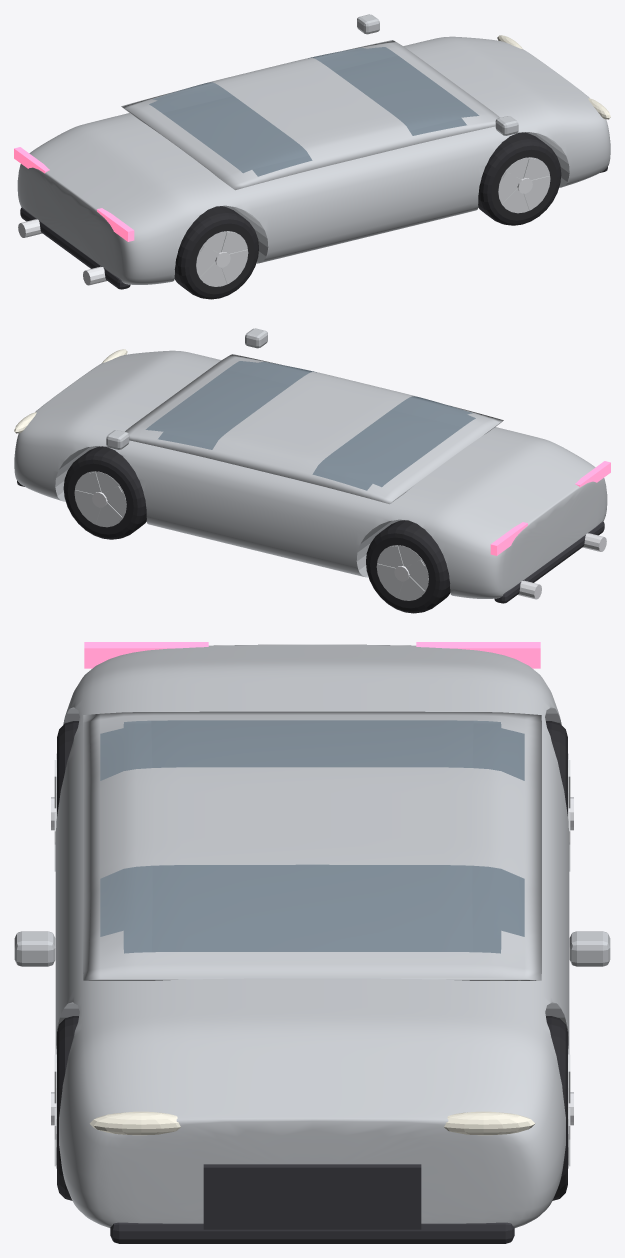
Rendered from chrome_viper.fbx.
The picture shows the model from 3 angles, top to bottom: view 1: azimuth 30°, elevation 25°; view 2: azimuth 150°, elevation 25°; view 3: azimuth 270°, elevation 25°; orthographic projection. The views are drawn at different scales.
Visible parts, largest first — view 1: Body.013, Glass.013, Tire.013, Rim.013, Chrome.013, Trim.013, TailLight.013; view 2: Body.013, Glass.013, Tire.013, Rim.013, Chrome.013, Trim.013, TailLight.013; view 3: Body.013, Glass.013, Trim.013, Tire.013, HeadLight.013, TailLight.013, Rim.013.
Boxes of the visible parts, x1,y1,x2,y2 form: Body.013: [17, 14, 610, 284]; Glass.013: [149, 47, 478, 176]; Tire.013: [174, 132, 561, 299]; Rim.013: [196, 157, 550, 286]; Chrome.013: [18, 178, 532, 285]; Trim.013: [20, 166, 607, 289]; TailLight.013: [14, 147, 134, 241]; Body.013: [14, 328, 607, 598]; Glass.013: [146, 361, 475, 490]; Tire.013: [63, 446, 450, 613]; Rim.013: [74, 471, 428, 600]; Chrome.013: [92, 492, 606, 599]; Trim.013: [17, 480, 604, 603]; TailLight.013: [490, 461, 610, 555]; Body.013: [14, 644, 610, 1227]; Glass.013: [100, 720, 524, 953]; Trim.013: [110, 1164, 514, 1243]; Tire.013: [57, 721, 567, 1200]; HeadLight.013: [89, 1111, 535, 1135]; TailLight.013: [84, 642, 540, 668]; Rim.013: [54, 753, 570, 1168].
Bounding box in the file's own units: 1581 × 349 × 804.
